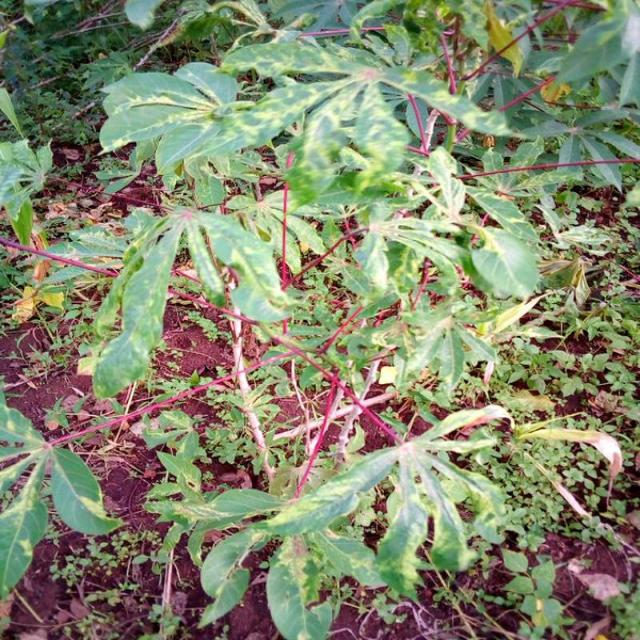cassava leaf: (88, 205, 290, 399)
